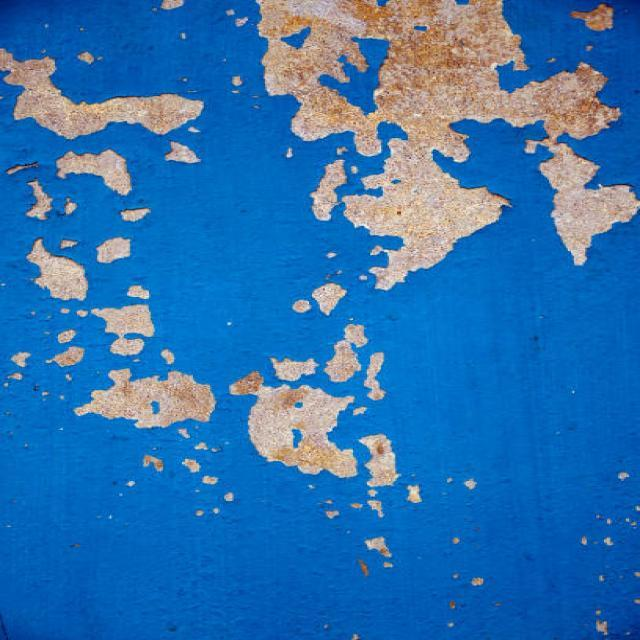peeling: (251, 0, 634, 308), (238, 270, 419, 506), (26, 227, 225, 440), (7, 46, 219, 210)
